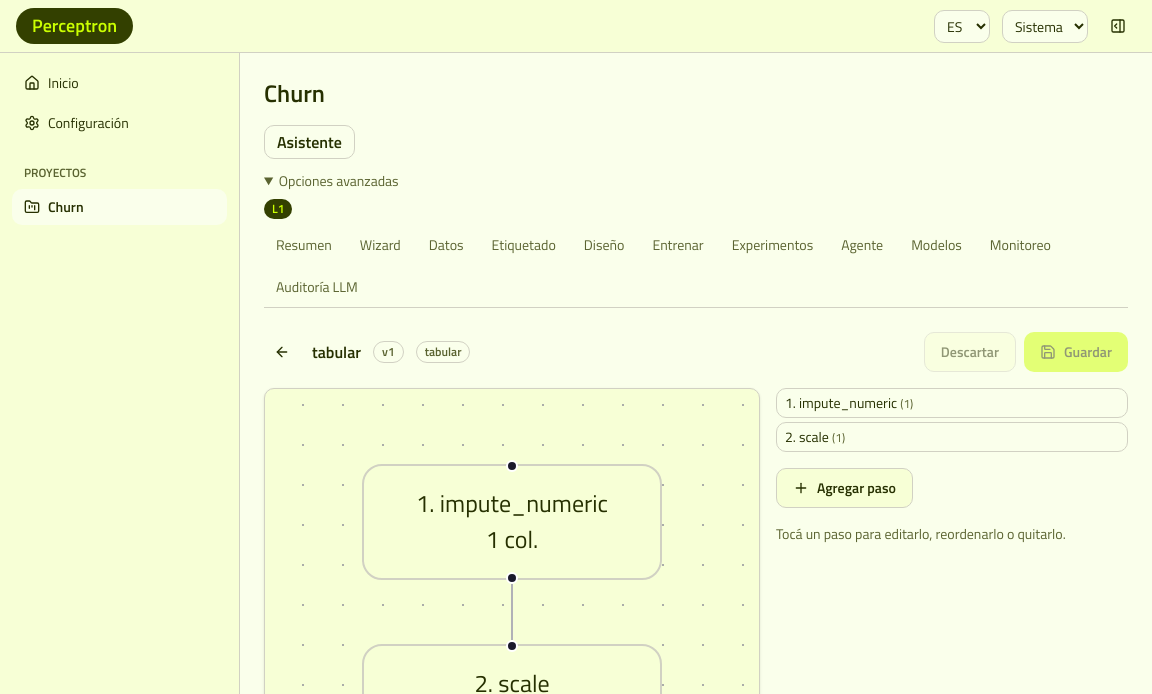
vista previa por paso (RF-PIP-02) › previsualiza el grafo sin guardar tras el paso elegido
Click the button "1. impute_numeric (1)" at (848, 402), box [776, 388, 1128, 418]
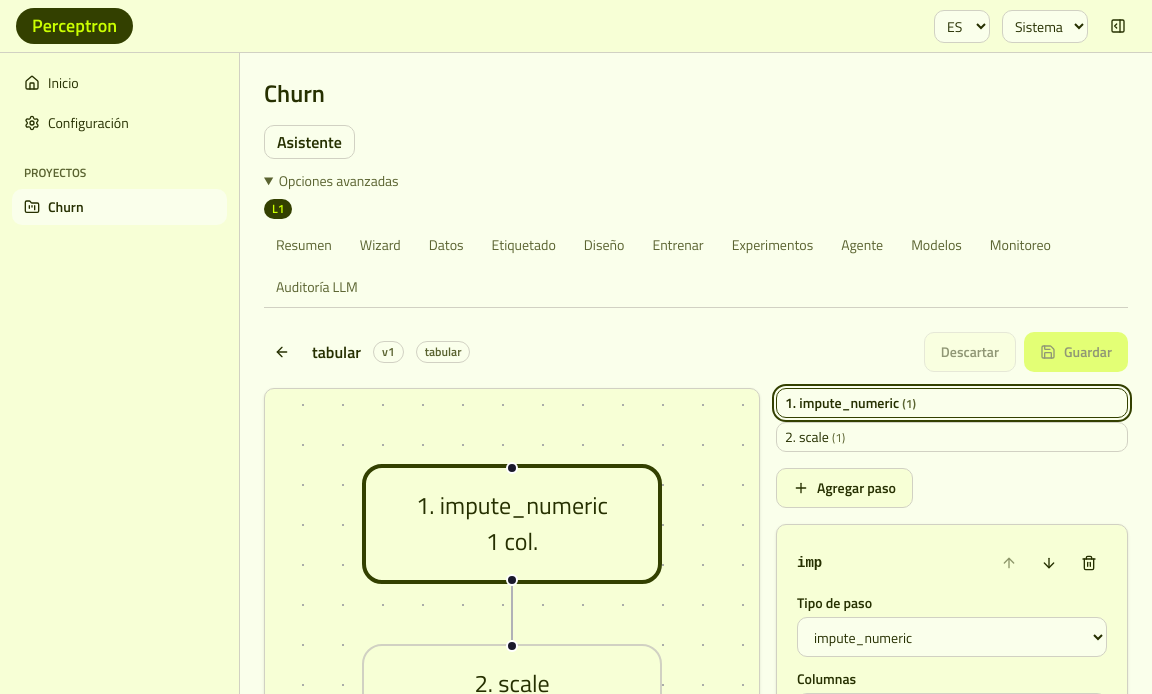
Select "log1p" in the dropdown labelled "Tipo de paso" at (952, 637), box [797, 617, 1107, 657]
(page scrolled)
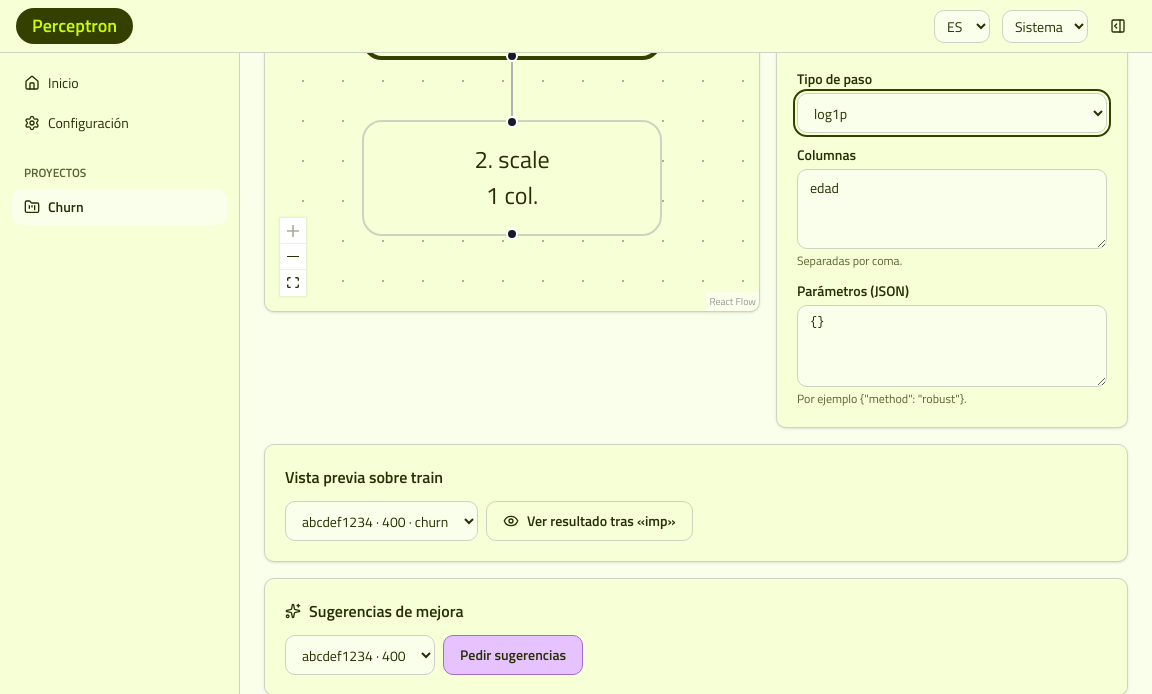
Click the button "Ver resultado tras «imp»" at (589, 521), box [486, 501, 693, 541]
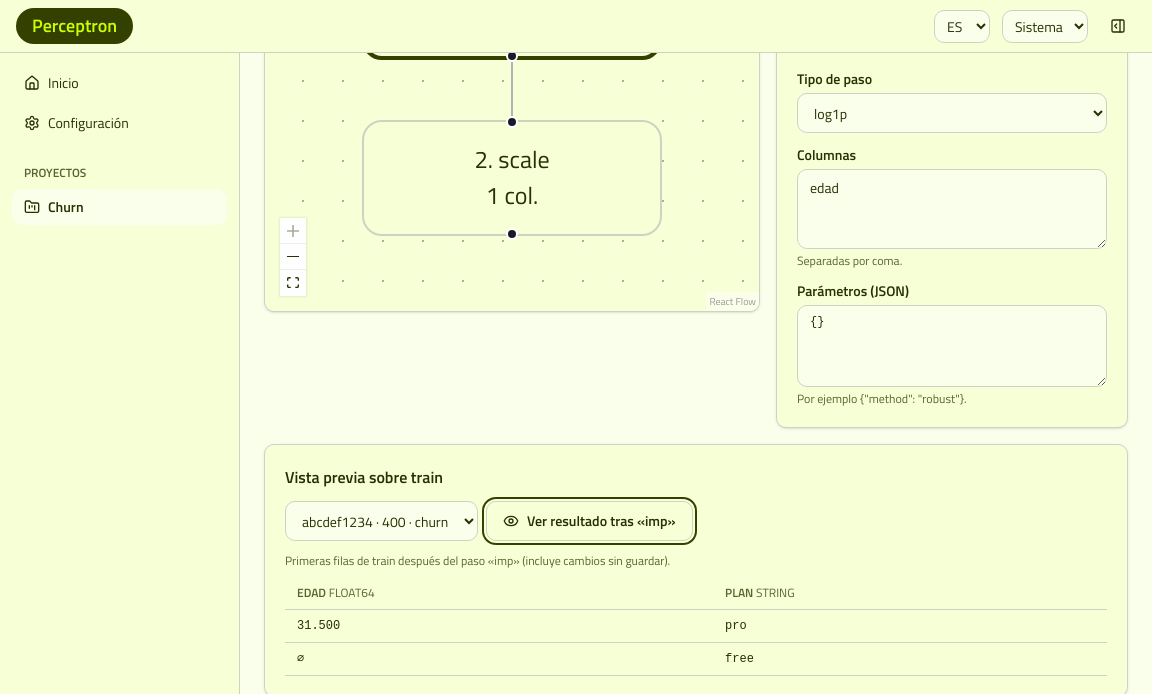
Expected: the text "31.500" is shown, [285, 610, 713, 642]
Expected: the text "∅" is shown, [285, 642, 713, 676]
